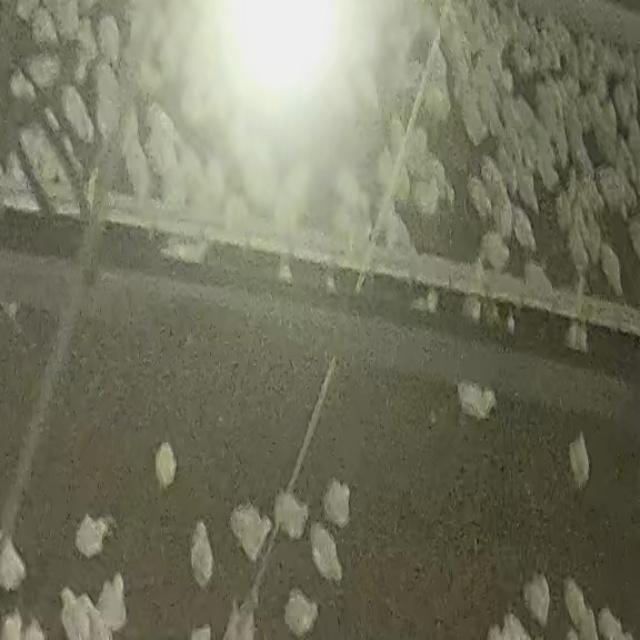chicken: (226, 500, 272, 562), (308, 522, 348, 585), (272, 482, 312, 542), (97, 570, 133, 631), (56, 584, 95, 638), (188, 518, 216, 589), (563, 428, 595, 490), (73, 511, 115, 558), (519, 569, 552, 628), (321, 474, 353, 532), (478, 226, 514, 272), (461, 170, 494, 220), (598, 242, 628, 296), (562, 574, 588, 633), (151, 440, 180, 491), (512, 202, 539, 254)
